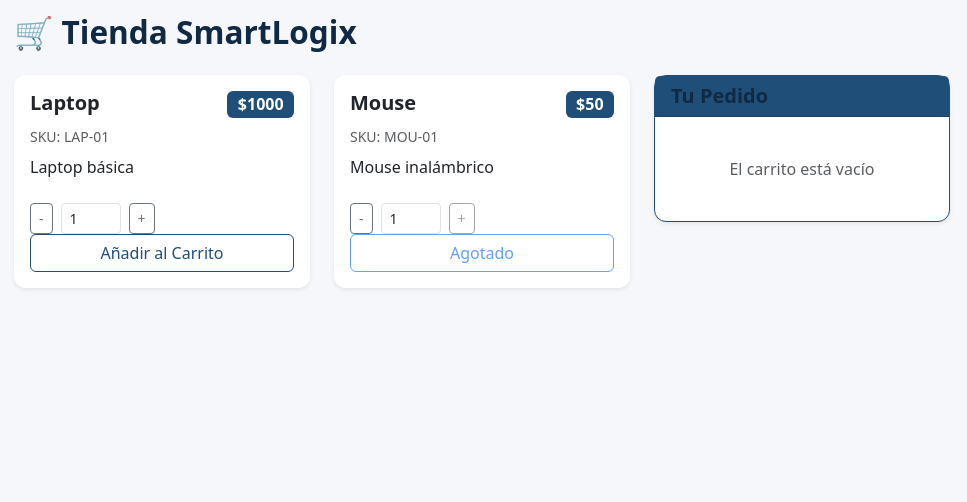
Test case: Catalogo › agrega un producto al carrito al hacer click en "Añadir al Carrito"
expect the heading "Laptop" is shown: met, box [30,91,100,115]
What coordinates should you click on to do the following:
click the button "Añadir al Carrito"
I would click on:
 (162, 253)
Its box is [30,234,294,272].
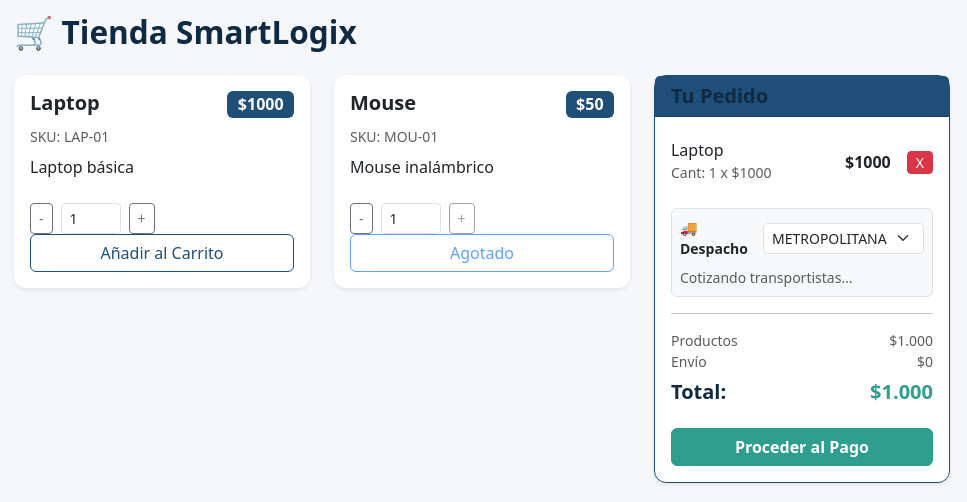
expect the text "El carrito está vacío" is gone: met
